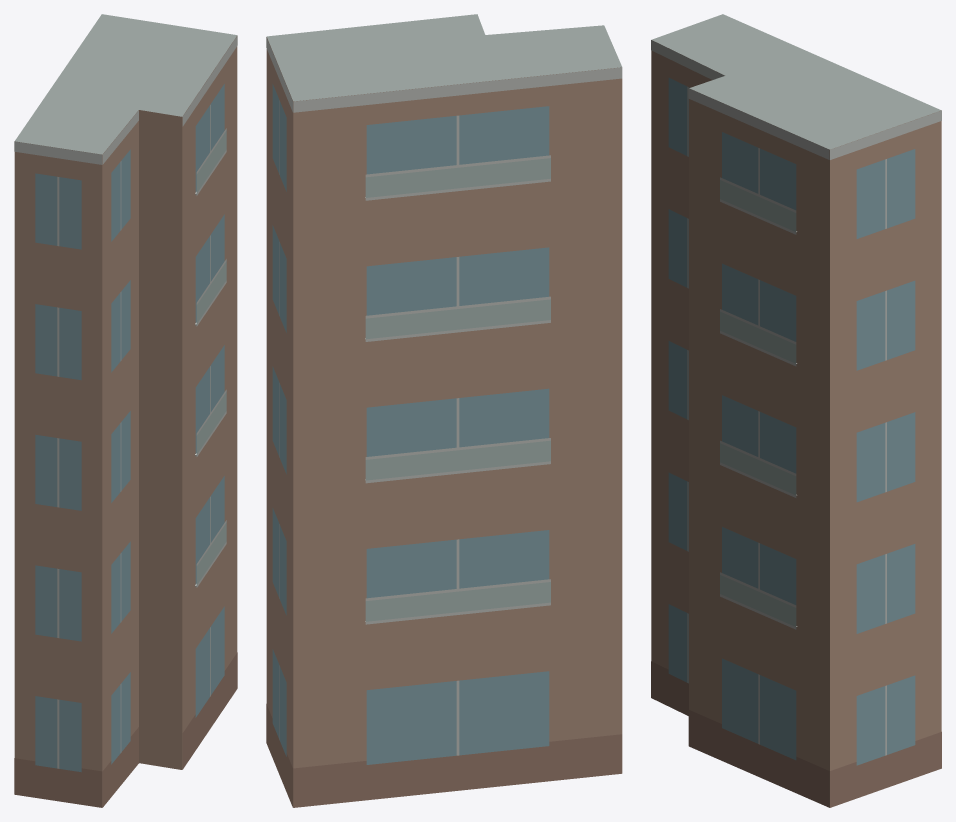
File: survey-upis-32628222.glb
The picture shows the model from 3 angles, left to right: view 1: azimuth 30°, elevation 25°; view 2: azimuth 150°, elevation 25°; view 3: azimuth 270°, elevation 25°; orthographic projection. The views are drawn at different scales.
Visible parts, largest first — view 1: survey-upis-32628222.tmp; view 2: survey-upis-32628222.tmp; view 3: survey-upis-32628222.tmp.
Part boxes in pixels (bbox=[...]): survey-upis-32628222.tmp: bbox=[14, 14, 237, 807]; survey-upis-32628222.tmp: bbox=[266, 14, 622, 807]; survey-upis-32628222.tmp: bbox=[651, 14, 941, 807].
Bounding box in the file's own units: 6.75 × 15.25 × 6.11.
